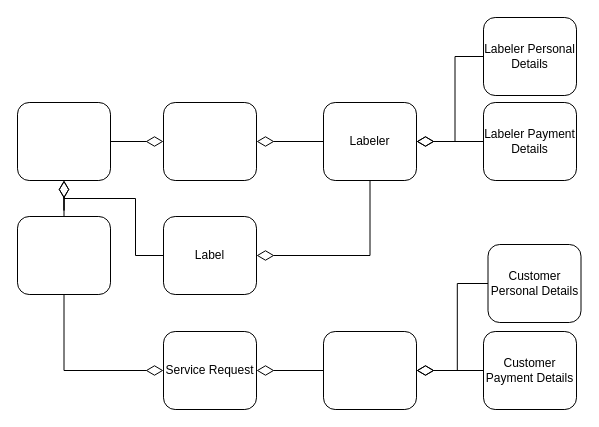
Image size: 599x427. Some labels were removed from this diagram. Each missing label, with the centre of its shape:
Customer: pixel 369 370
Historic Accuracy: pixel 209 141
Image: pixel 63 255
Object Class: pixel 63 141
